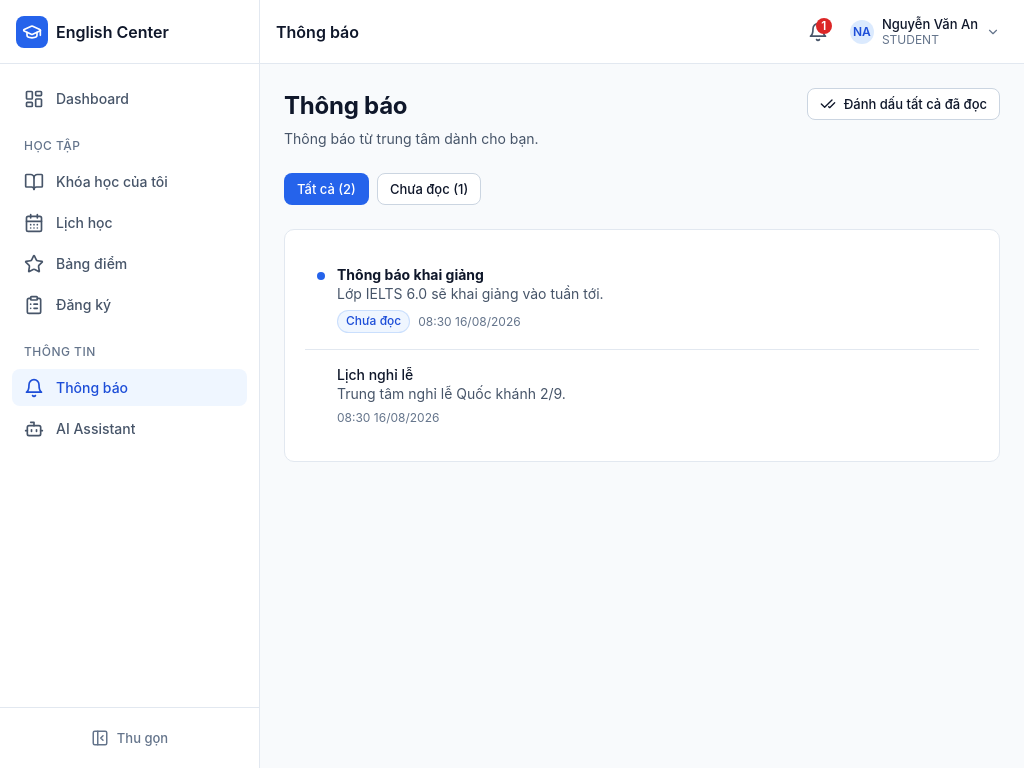
Test: notifications page › marks all notifications as read via the header action
Step 1. Click the button "Đánh dấu tất cả đã đọc" → (903, 104), box [807, 88, 1000, 120]
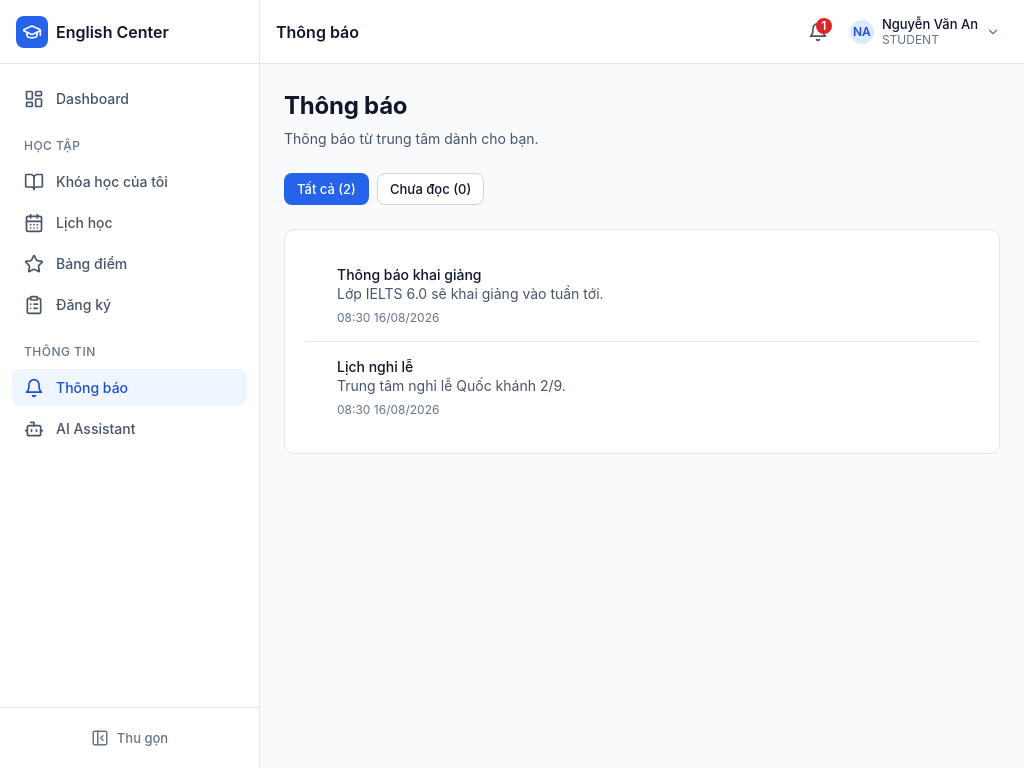
expect the button "Đánh dấu tất cả đã đọc" is gone: met
